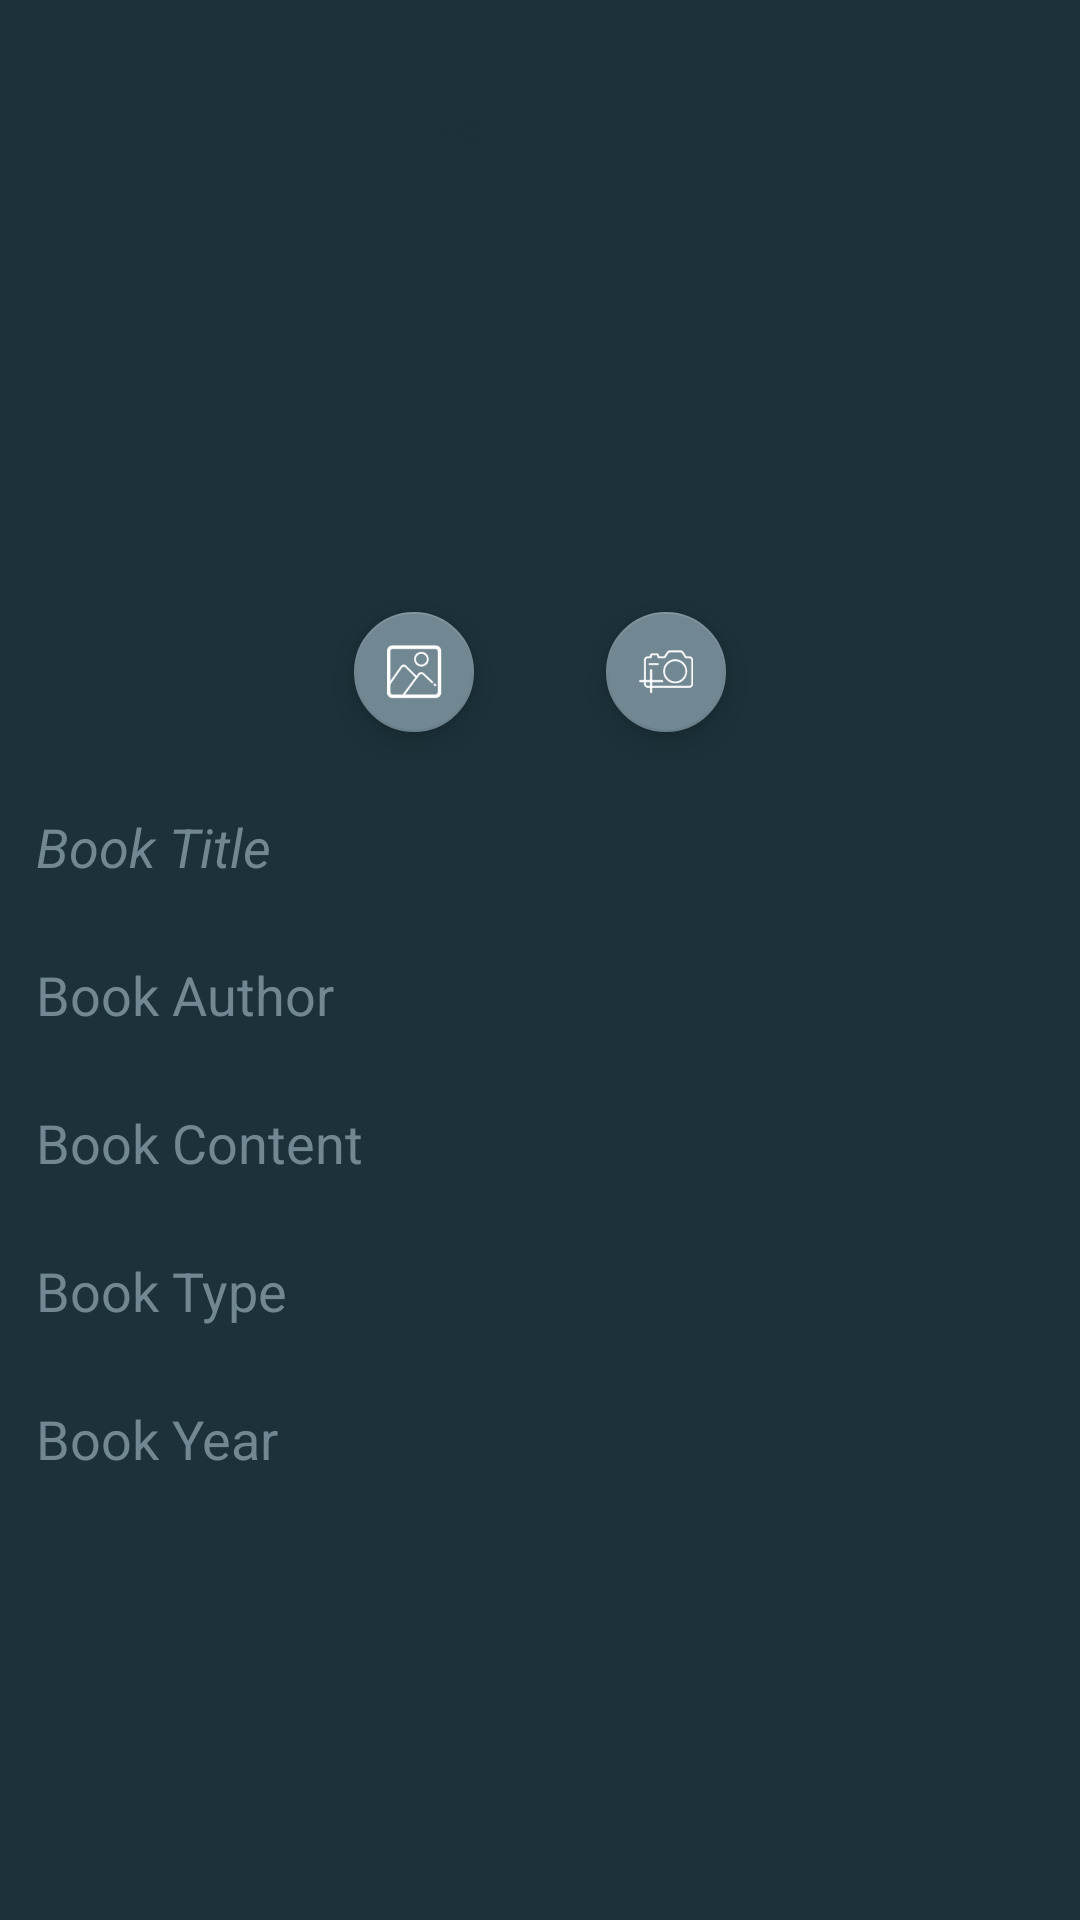

Icon bounding boxes for this 1080w x 1920h phone screenshot, format (x1, y1, x2, y2):
galery: (354, 612, 474, 732)
take pic: (606, 612, 726, 732)
